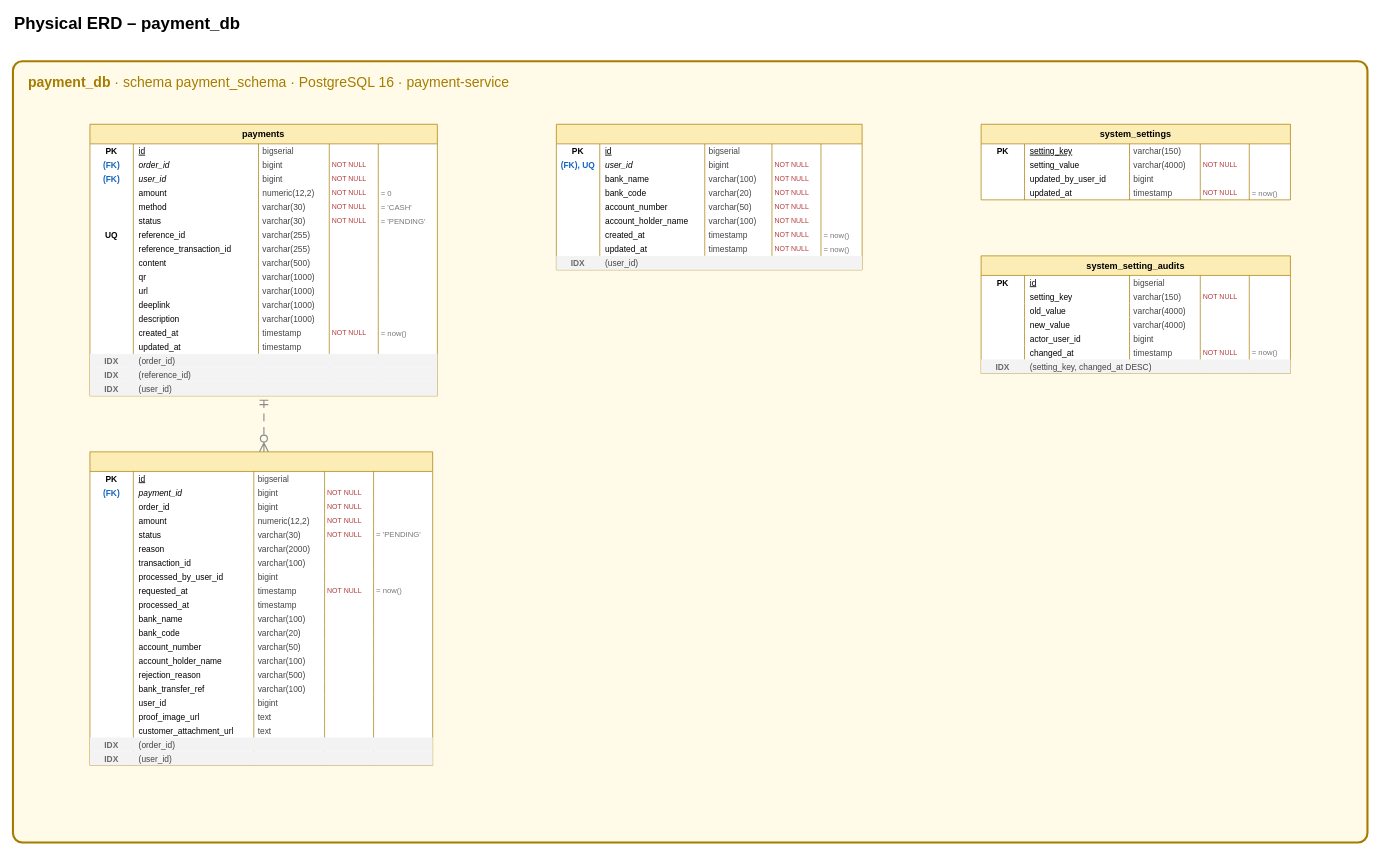
This 1380x855 diagram has some shape labels left out. The box of each missing label's shape, as (x1, y1, x2, y2) in pixels:
refunds: (89, 451, 433, 765)
user_bank_accounts: (556, 124, 862, 270)
